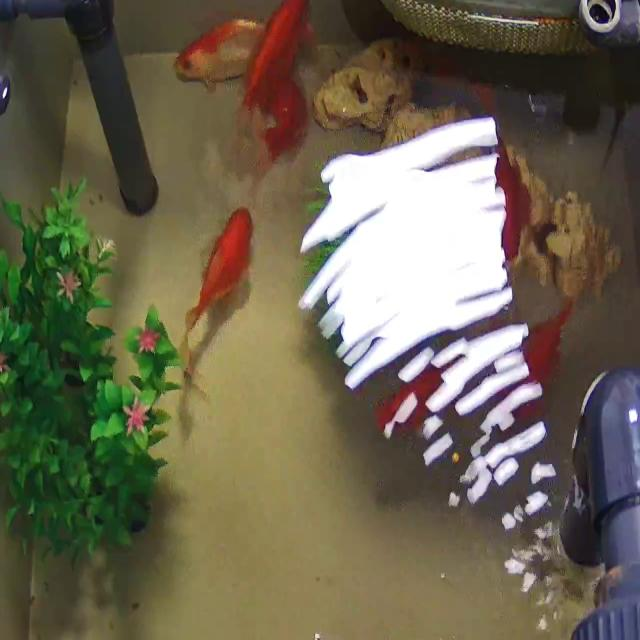fish: (182, 203, 256, 389), (234, 0, 311, 132), (177, 5, 266, 101), (380, 362, 449, 437), (517, 308, 573, 398)
